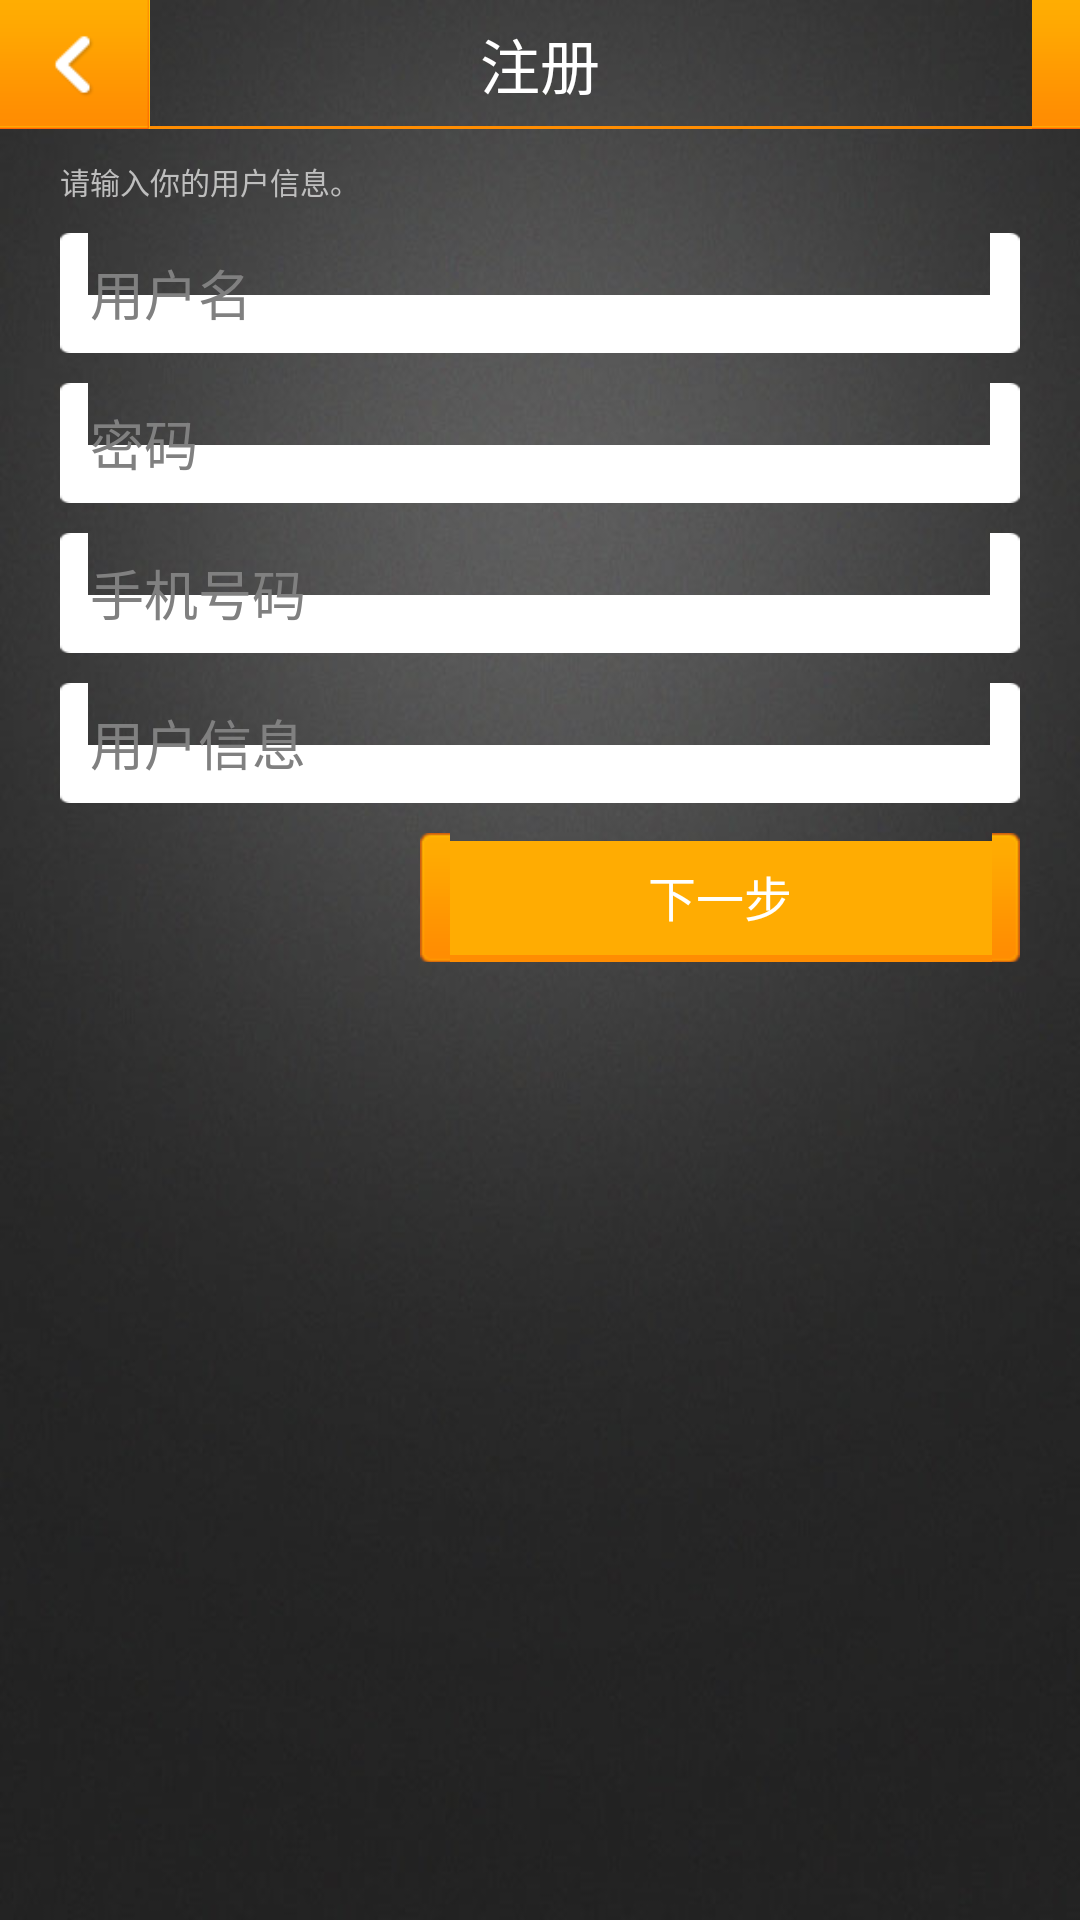

Icons on this 1080w x 1920h Android screen, each with its box as (x1, y1, x2, y2):
back: (37, 27, 112, 96)
